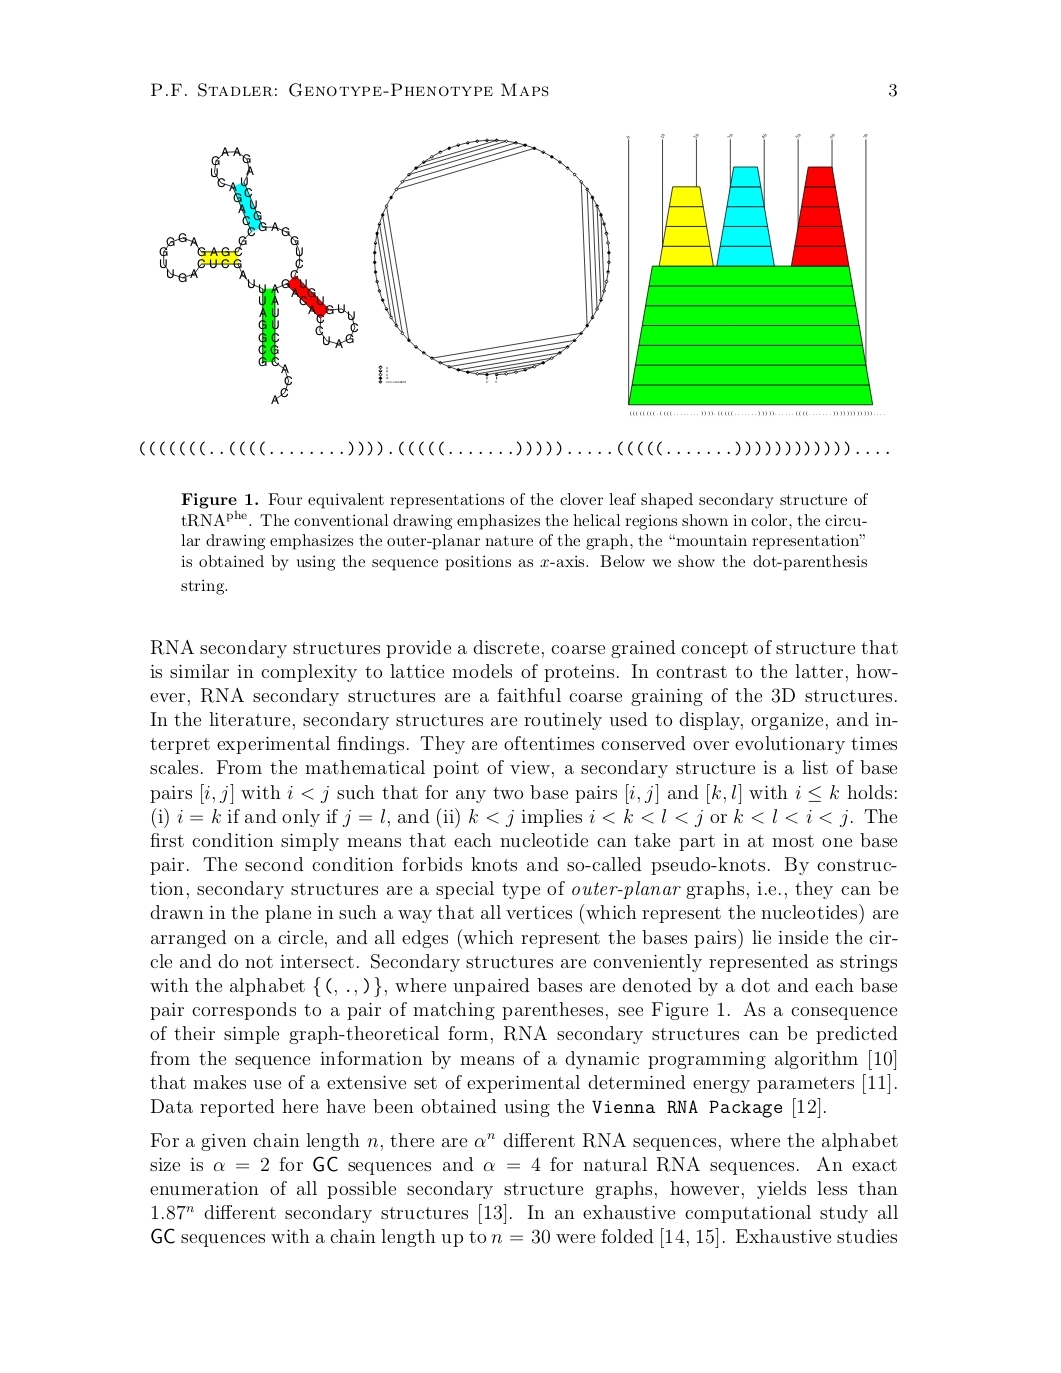figure: (626, 133, 884, 415), (373, 137, 610, 384), (159, 146, 357, 405)
